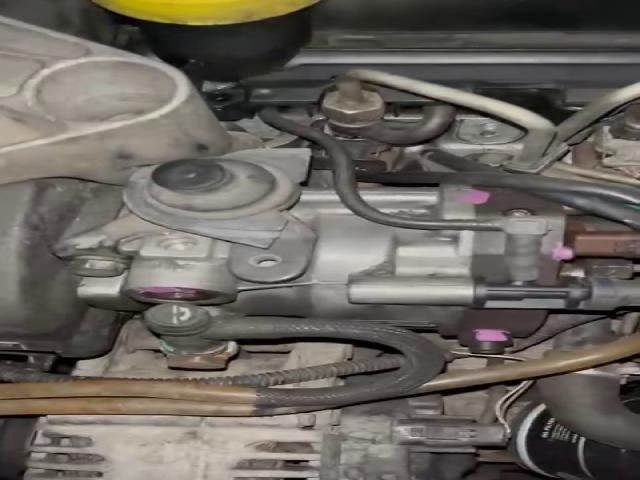alternator: (23, 395, 512, 480)
high_pressure_pump: (118, 178, 640, 353)
